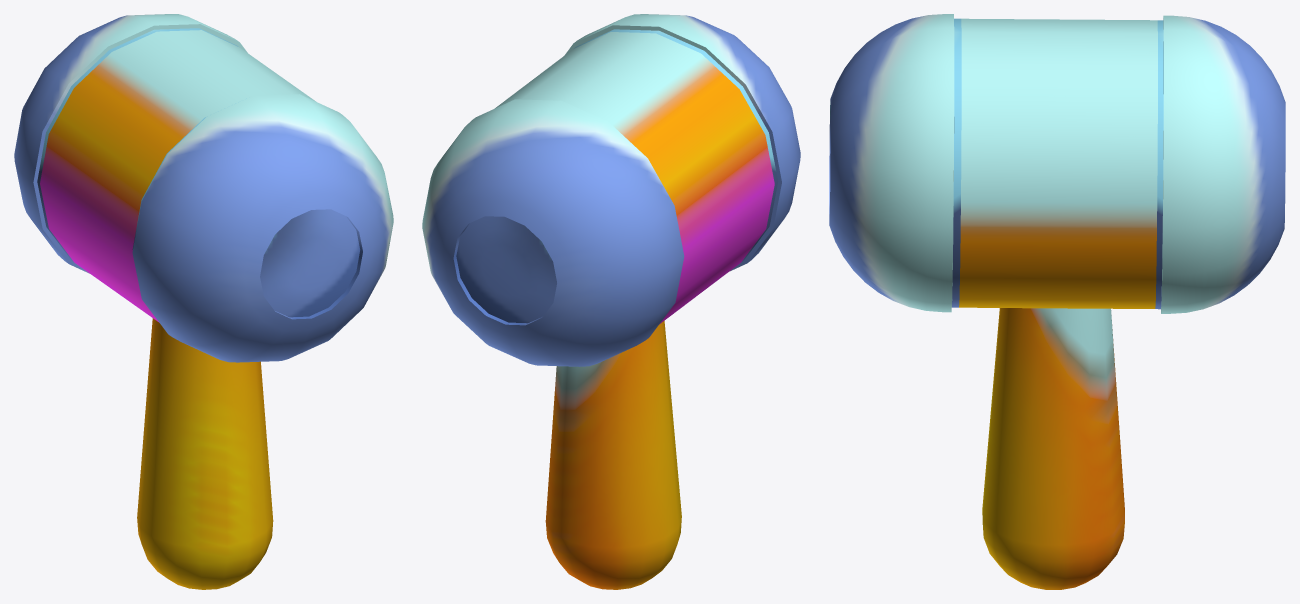
The model's file is hammer1new1.fbx.
3 renders of one model, left to right at view 1: azimuth 30°, elevation 25°; view 2: azimuth 150°, elevation 25°; view 3: azimuth 270°, elevation 25°, orthographic. The views are drawn at different scales.
Visible parts, largest first — view 1: Cylinder.115; view 2: Cylinder.115; view 3: Cylinder.115.
Part boxes in pixels (box(x1,y1,x2,y2)): Cylinder.115: box(14, 14, 393, 589); Cylinder.115: box(422, 14, 800, 589); Cylinder.115: box(829, 14, 1285, 589).
Size of the model in its own units: 409 by 837 by 624.
